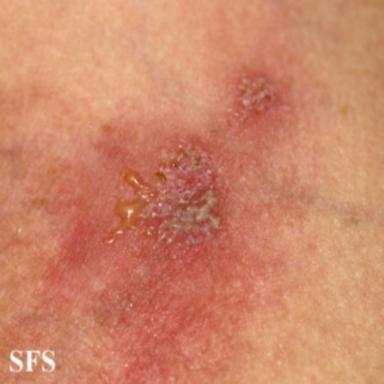Hailey-Hailey-Disease: (103, 141, 223, 262), (231, 74, 275, 122)
